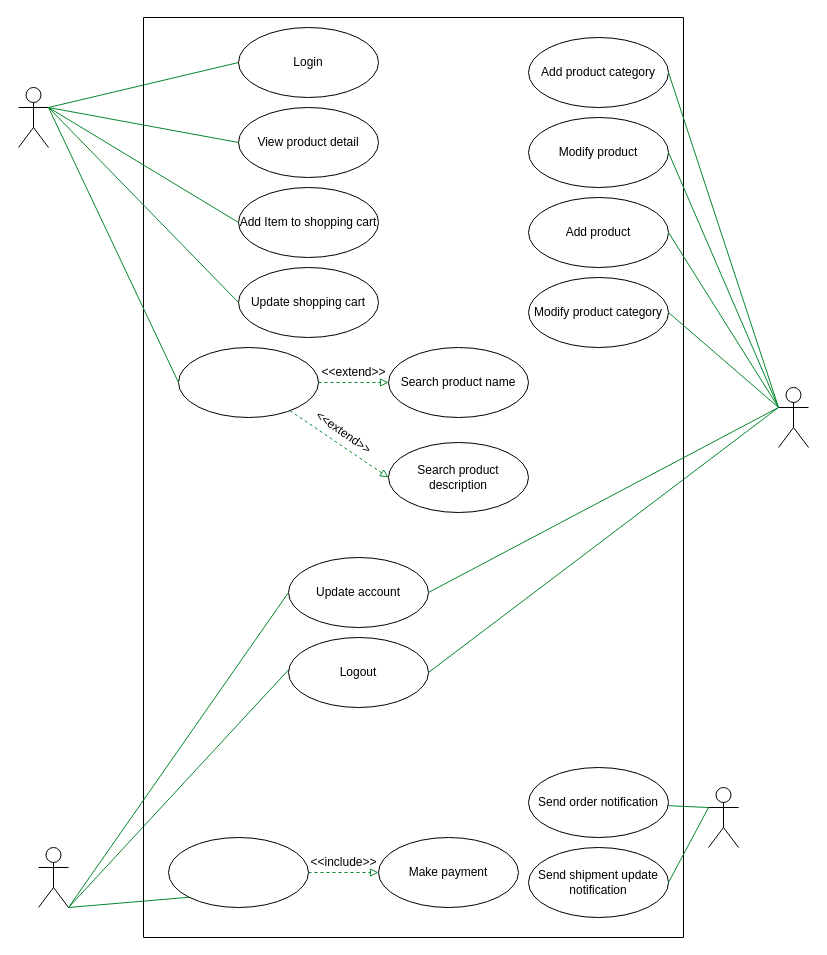
This 827x955 diagram has some shape labels left out. The box of each missing label's shape, as (x1, y1, x2, y2) in pixels:
Admin: (778, 386, 808, 448)
Checkout shopping cart: (168, 836, 308, 908)
Customer: (38, 846, 68, 908)
Guest: (18, 86, 48, 148)
Search product: (178, 346, 318, 418)
System: (708, 786, 738, 848)
